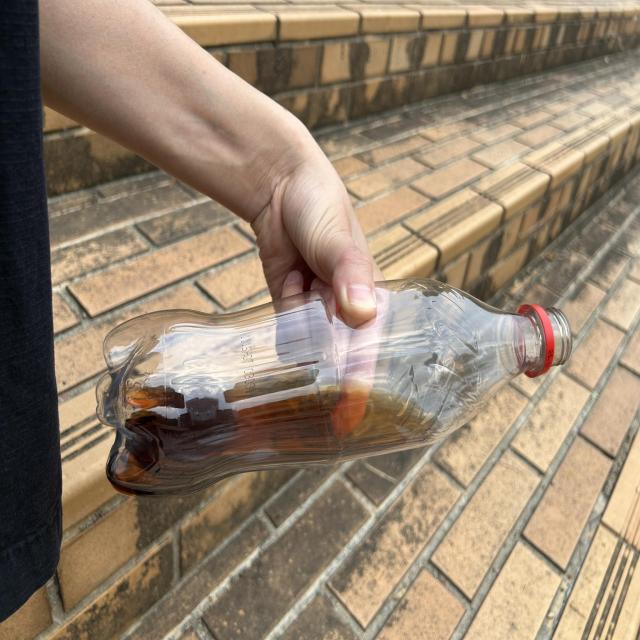low: (96, 278, 572, 496)
